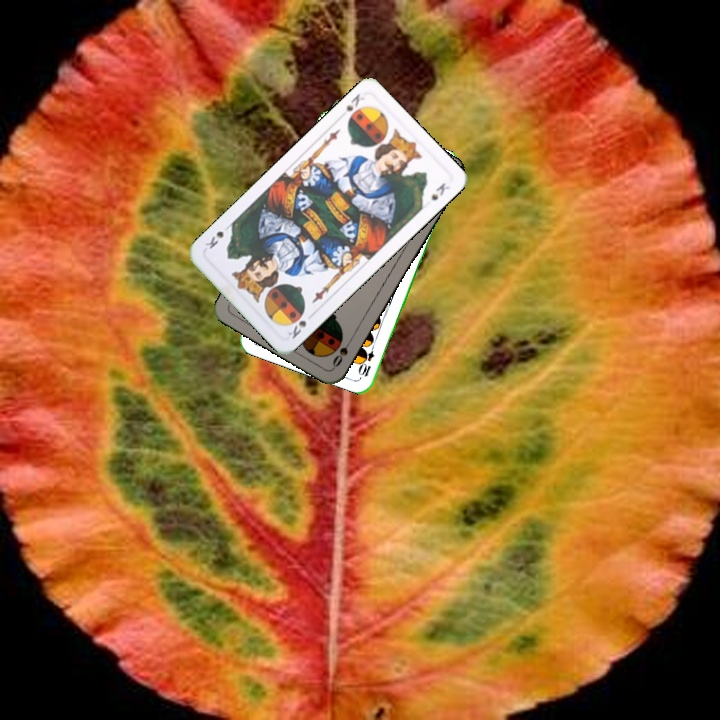E10: (356, 339, 378, 379)
SK: (284, 309, 309, 342), (342, 89, 366, 114)
SO: (328, 333, 356, 370)
